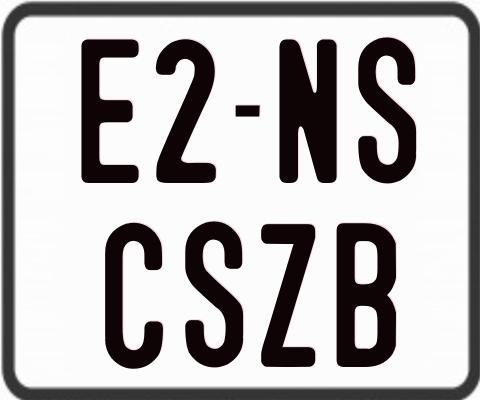2: (153, 37, 214, 185)
B: (335, 220, 400, 370)
C: (102, 221, 163, 368)
E: (79, 38, 138, 183)
N: (278, 38, 340, 186)
S: (356, 34, 420, 183), (185, 221, 244, 372)
Z: (260, 223, 314, 369)
